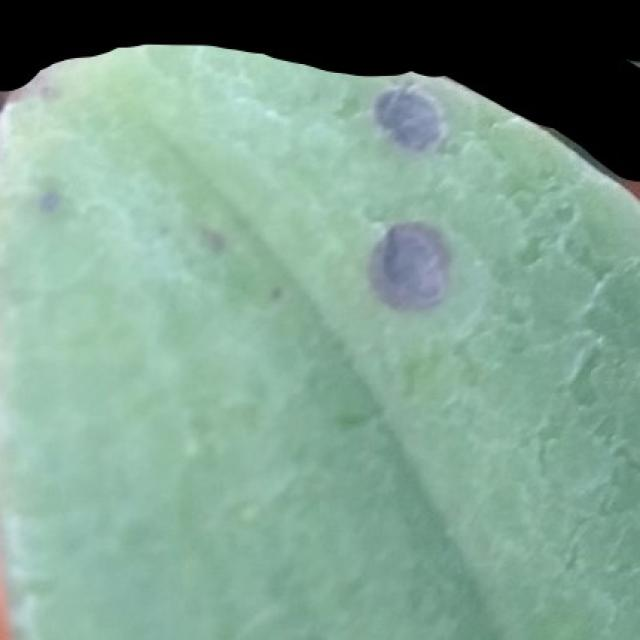mite: (363, 79, 455, 314), (30, 179, 68, 220), (515, 232, 545, 268), (37, 186, 61, 213)
spots: (0, 42, 639, 639)
sunburn: (363, 217, 455, 314)
